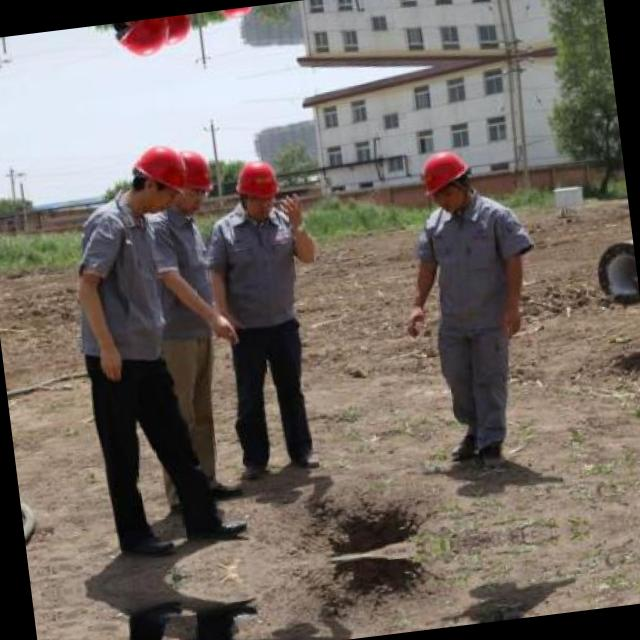helmet: (123, 139, 197, 219), (414, 146, 477, 214), (107, 16, 179, 64), (230, 154, 281, 219), (168, 141, 213, 213), (152, 13, 195, 52), (211, 5, 258, 25)
